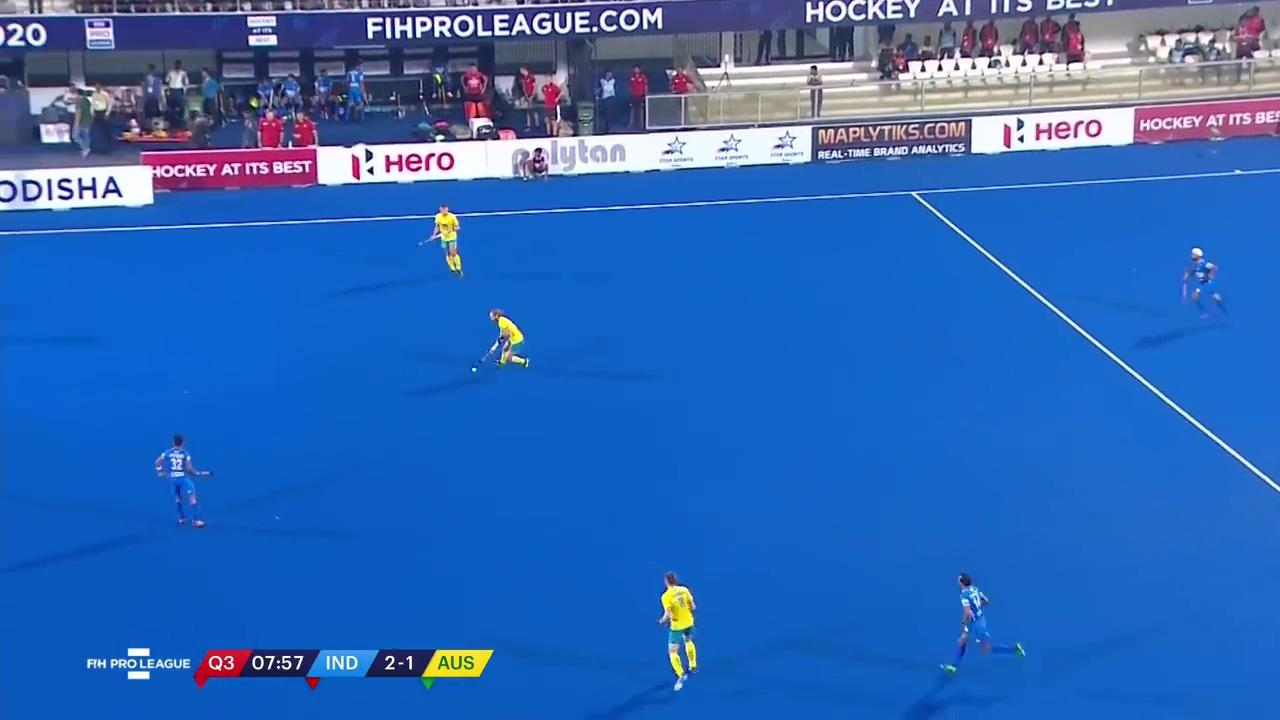ball: (463, 356, 486, 377)
